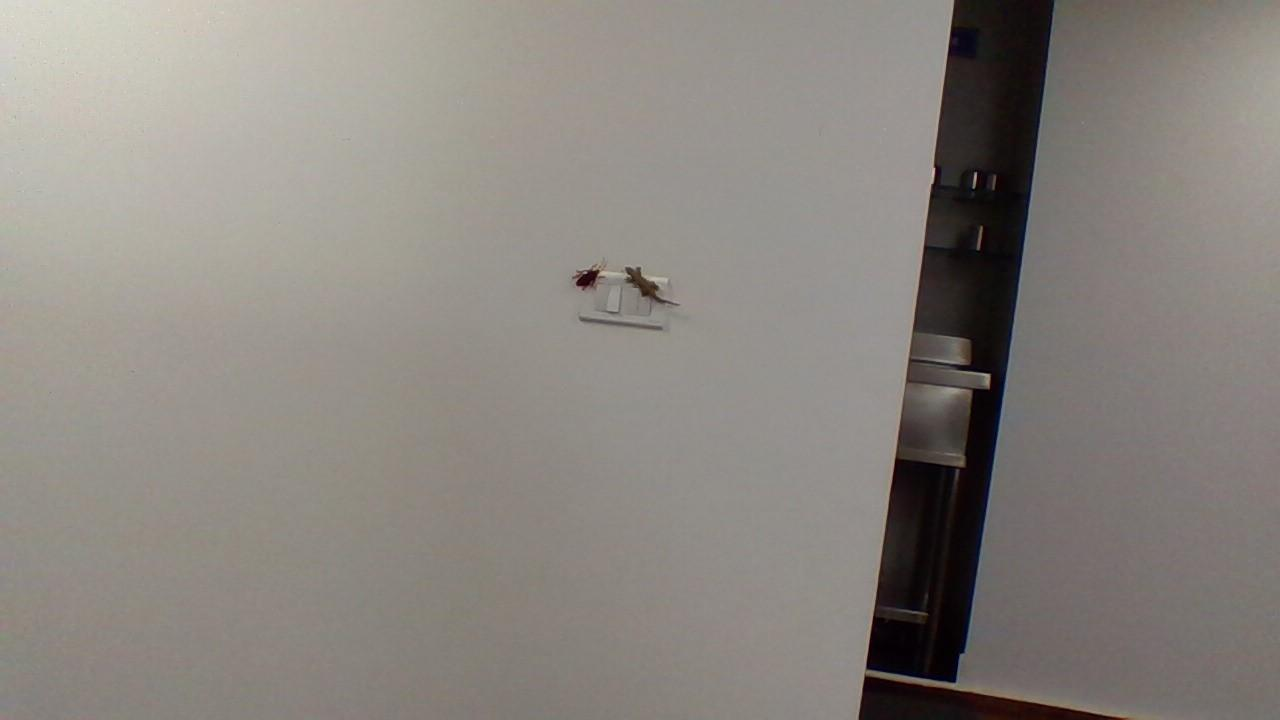cockroach: (570, 266, 610, 290)
lizard: (620, 260, 678, 308)
